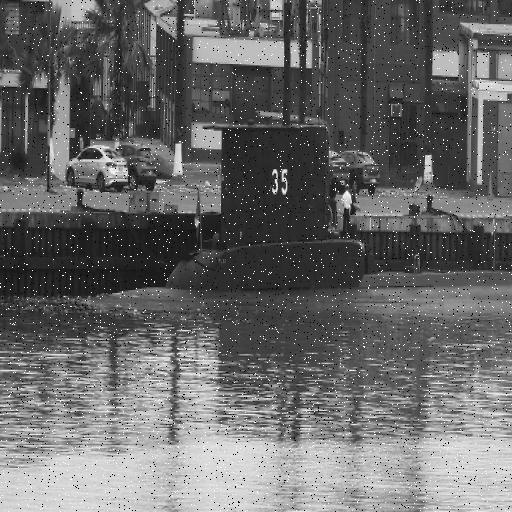submarine: (68, 127, 512, 306)
